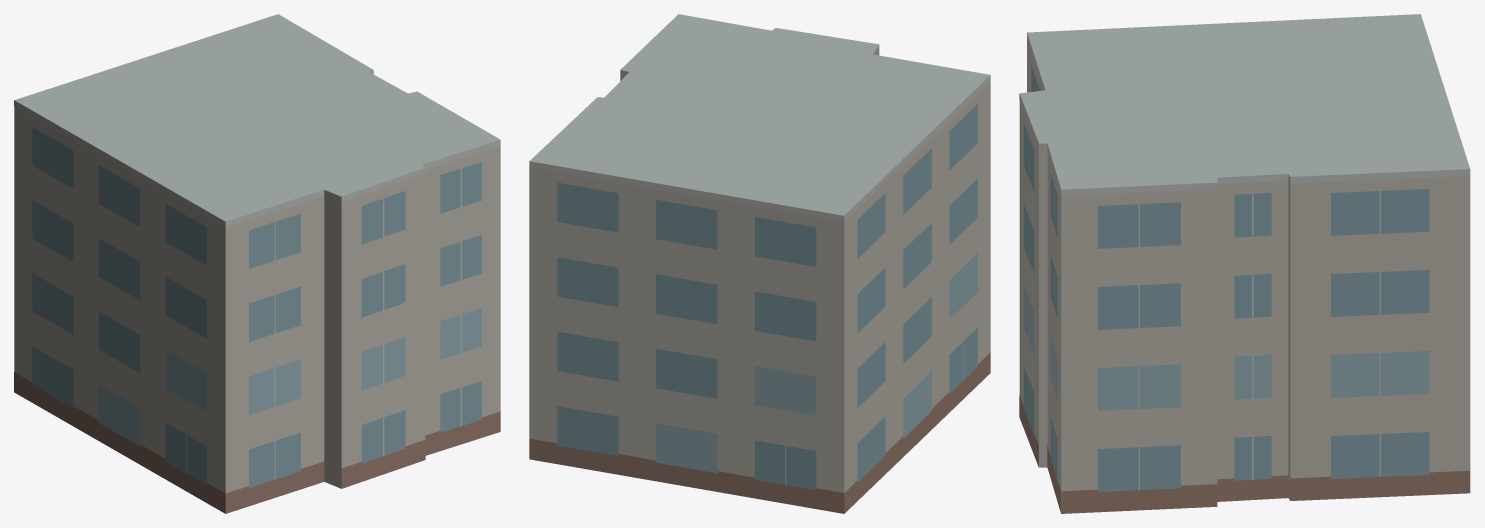
Rendered from survey-upis-32748348.glb.
3 views of the same model, side by side, from view 1: azimuth 30°, elevation 25°; view 2: azimuth 150°, elevation 25°; view 3: azimuth 270°, elevation 25° (orthographic). The views are drawn at different scales.
Visible parts, largest first — view 1: survey-upis-32748348.tmp; view 2: survey-upis-32748348.tmp; view 3: survey-upis-32748348.tmp.
Part boxes in pixels (x1,y1,x2,y2): survey-upis-32748348.tmp: (14, 14, 500, 513); survey-upis-32748348.tmp: (529, 14, 990, 513); survey-upis-32748348.tmp: (1019, 14, 1470, 513).
Bounding box in the file's own units: 13.61 × 11.7 × 14.75.
